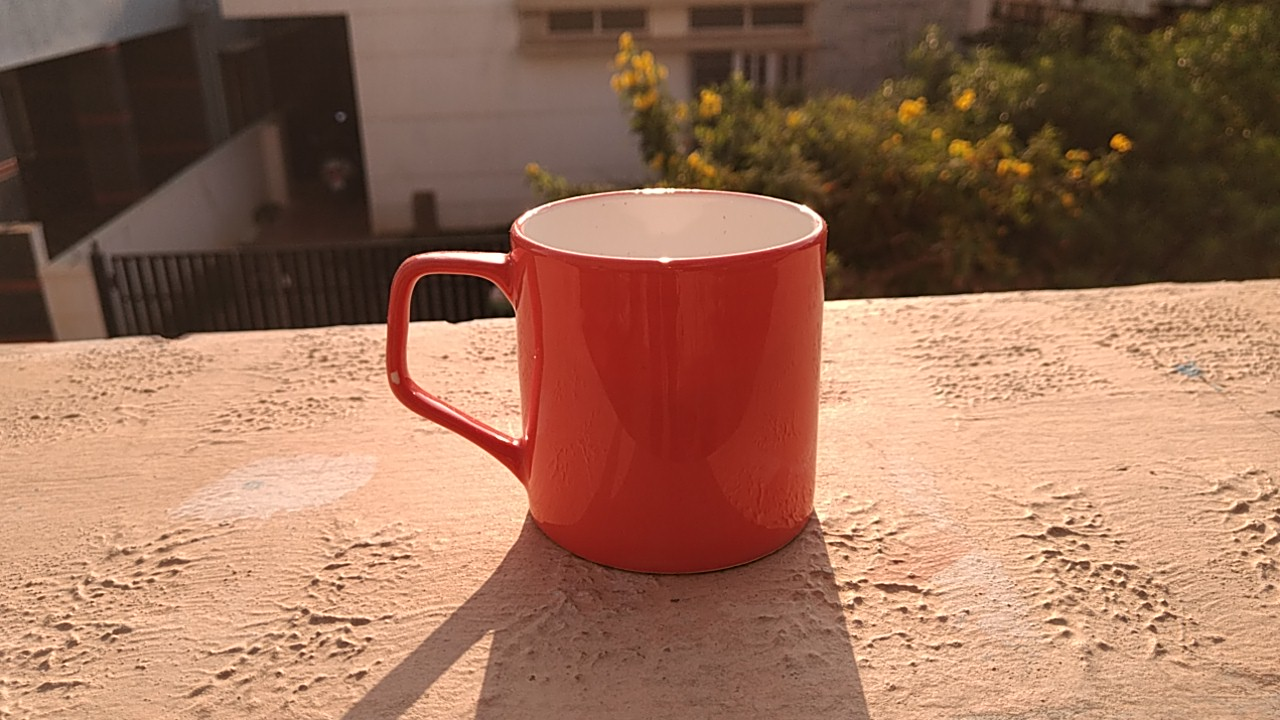cup: (369, 174, 857, 582)
